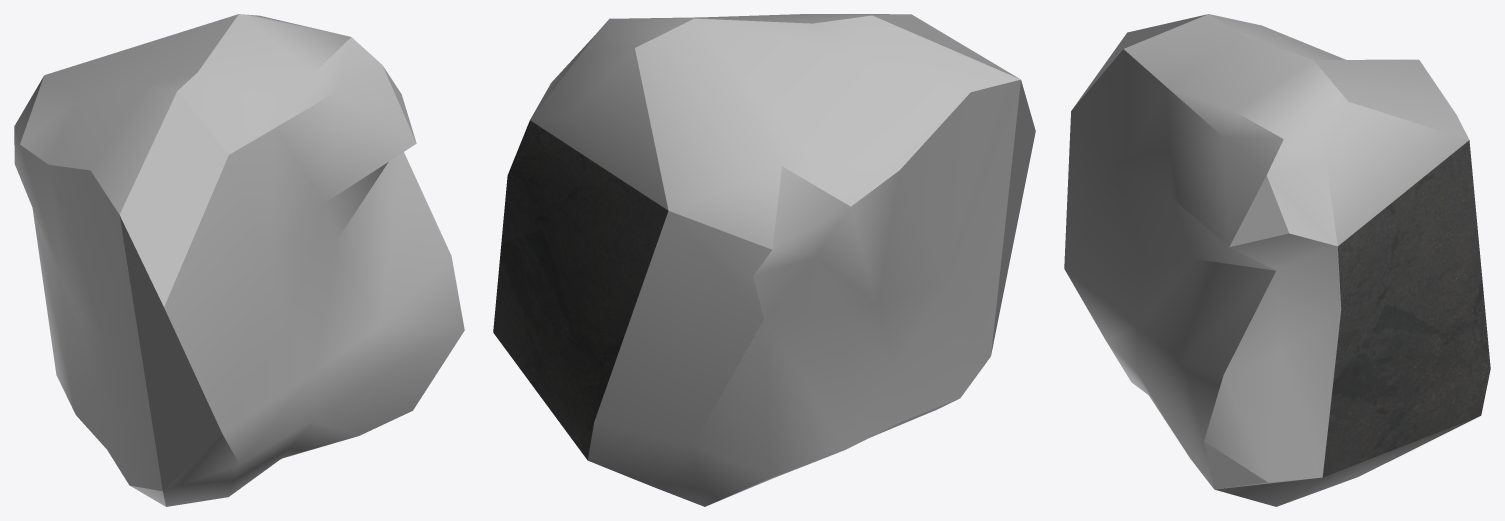
Rendered from misc_rock_small_1.dae.
3 renders of one model, left to right at view 1: azimuth 30°, elevation 25°; view 2: azimuth 150°, elevation 25°; view 3: azimuth 270°, elevation 25°, orthographic. The views are drawn at different scales.
Visible parts, largest first — view 1: rock1; view 2: rock1; view 3: rock1.
Part boxes in pixels (bbox=[...]): rock1: bbox=[14, 14, 464, 506]; rock1: bbox=[493, 14, 1035, 506]; rock1: bbox=[1064, 14, 1490, 506].
Size of what is drawn, in the model's own units: 0.5321 by 0.5426 by 0.4916.
Materials: 2 (1 with a texture image).
